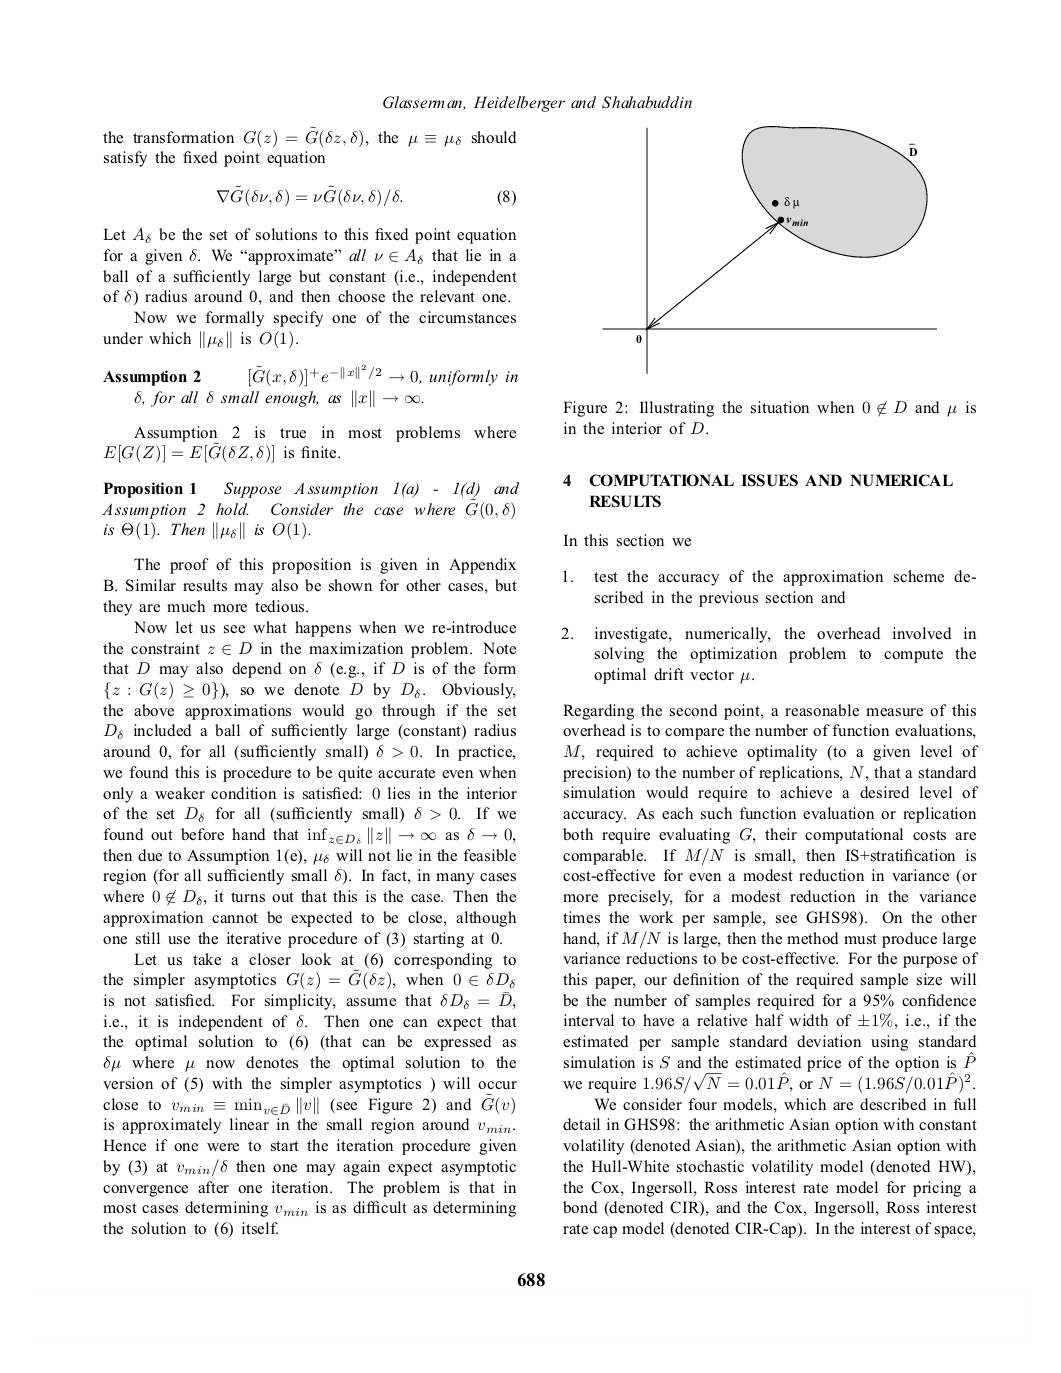figure: (602, 125, 936, 374)
formula: (217, 184, 515, 207)
